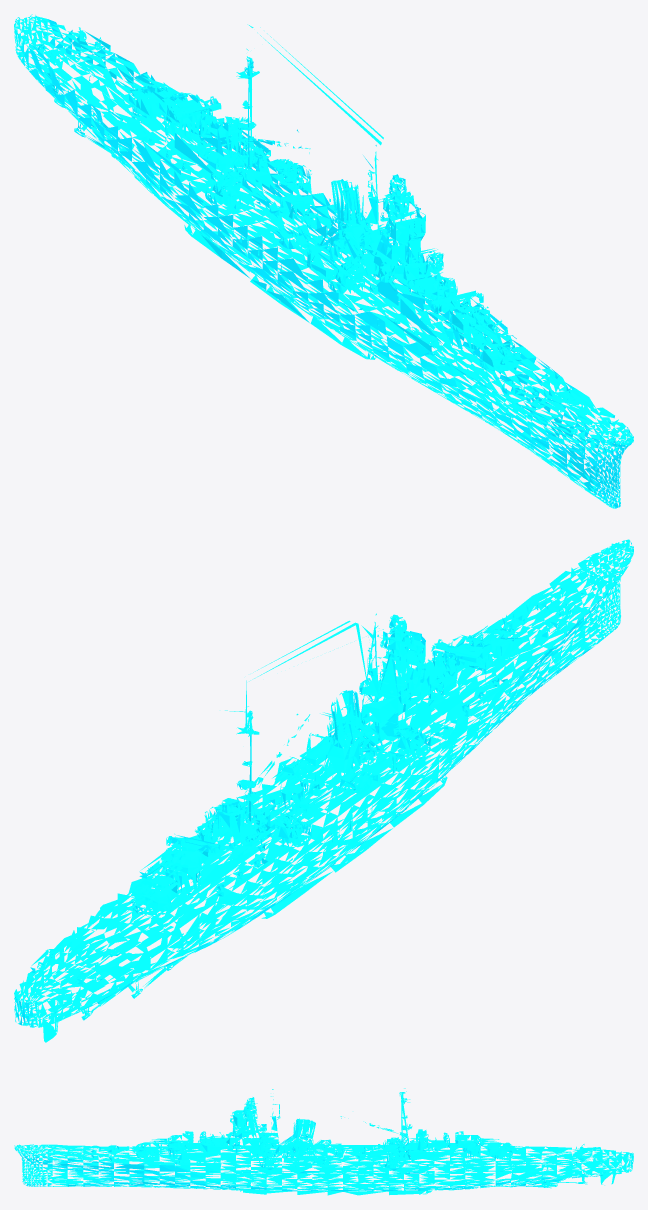
Rendered from Omono.glb.
3 renders of one model, top to bottom at view 1: azimuth 30°, elevation 25°; view 2: azimuth 150°, elevation 25°; view 3: azimuth 270°, elevation 25°, orthographic. The views are drawn at different scales.
Size of the model in its own units: 1.49 by 2.69 by 13.13.
